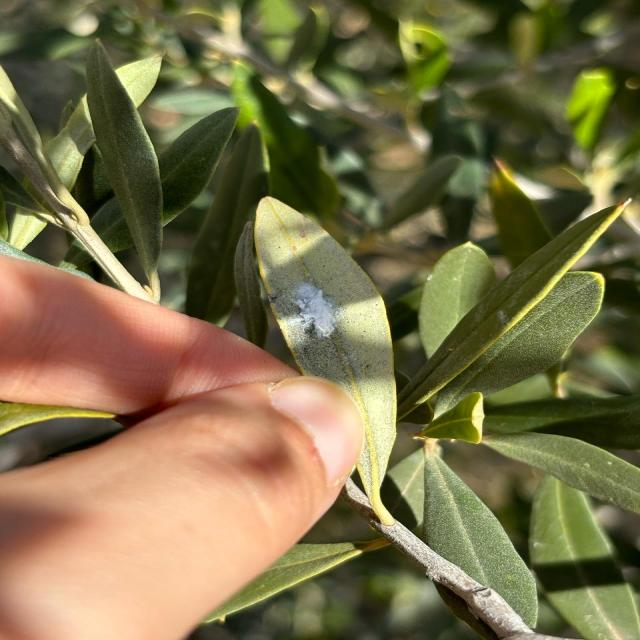Psyllid: (269, 280, 383, 358)
